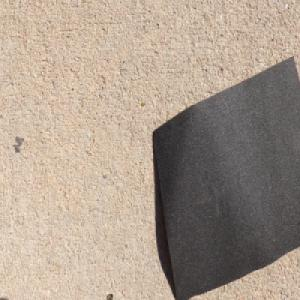PaintChip: (151, 55, 300, 300)
